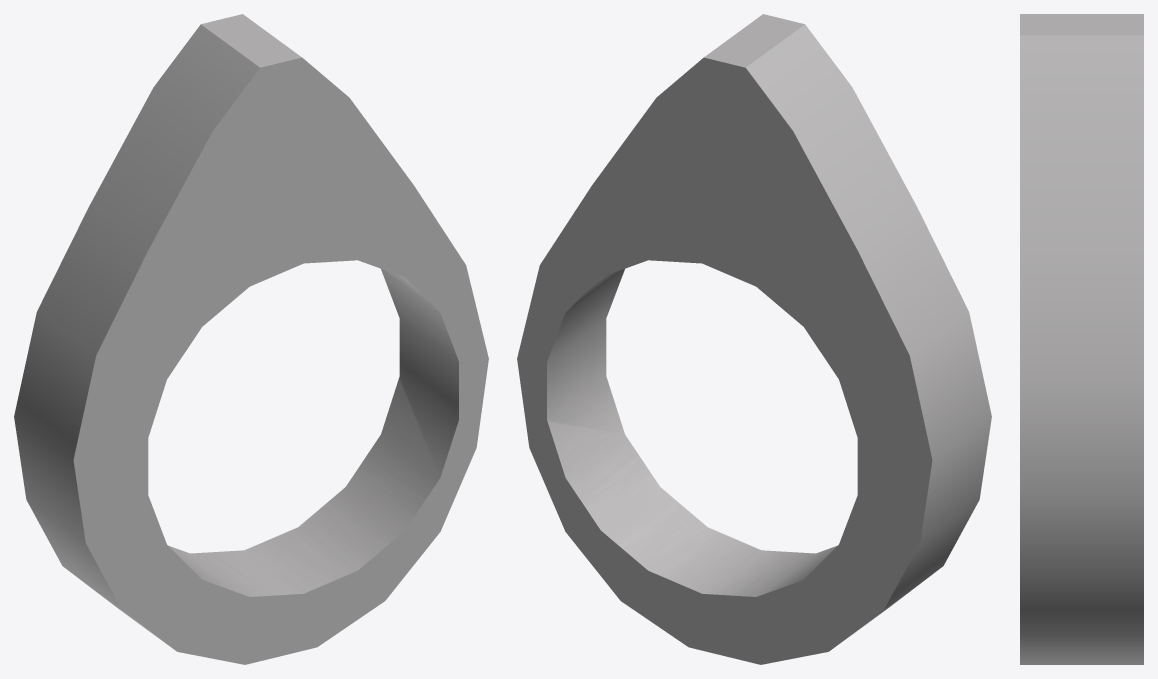
Rendered from rings.fbx.
The picture shows the model from 3 angles, left to right: view 1: azimuth 30°, elevation 25°; view 2: azimuth 150°, elevation 25°; view 3: azimuth 270°, elevation 25°; orthographic projection. The views are drawn at different scales.
Parts seen in each view (by area): view 1: Cylinder.023; view 2: Cylinder.023; view 3: Cylinder.023.
Boxes of the visible parts, x1,y1,x2,y2 form: Cylinder.023: (14, 14, 488, 664); Cylinder.023: (517, 14, 991, 664); Cylinder.023: (1020, 14, 1143, 664).
Bounding box in the file's own units: 121 × 166 × 30.11.
1 material, 1 textured.
